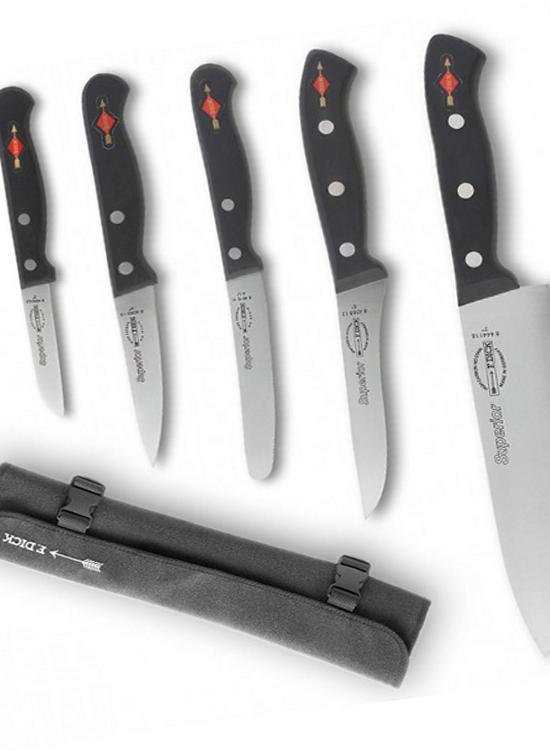knife: (421, 32, 550, 643), (299, 50, 395, 512), (187, 62, 279, 479), (82, 71, 173, 456), (1, 83, 75, 424)
